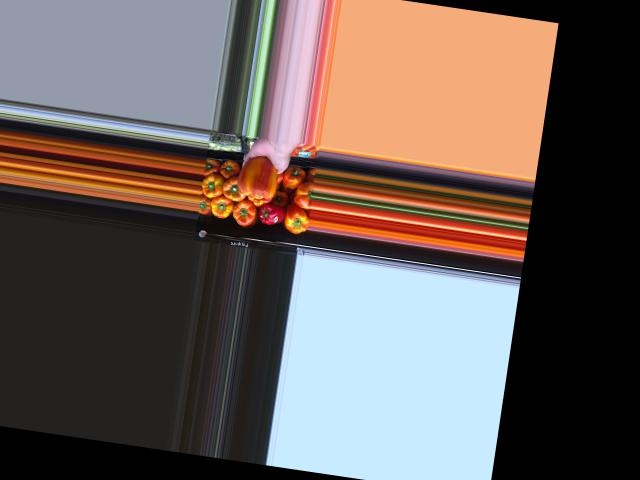bell_pepper: (279, 167, 308, 191)
